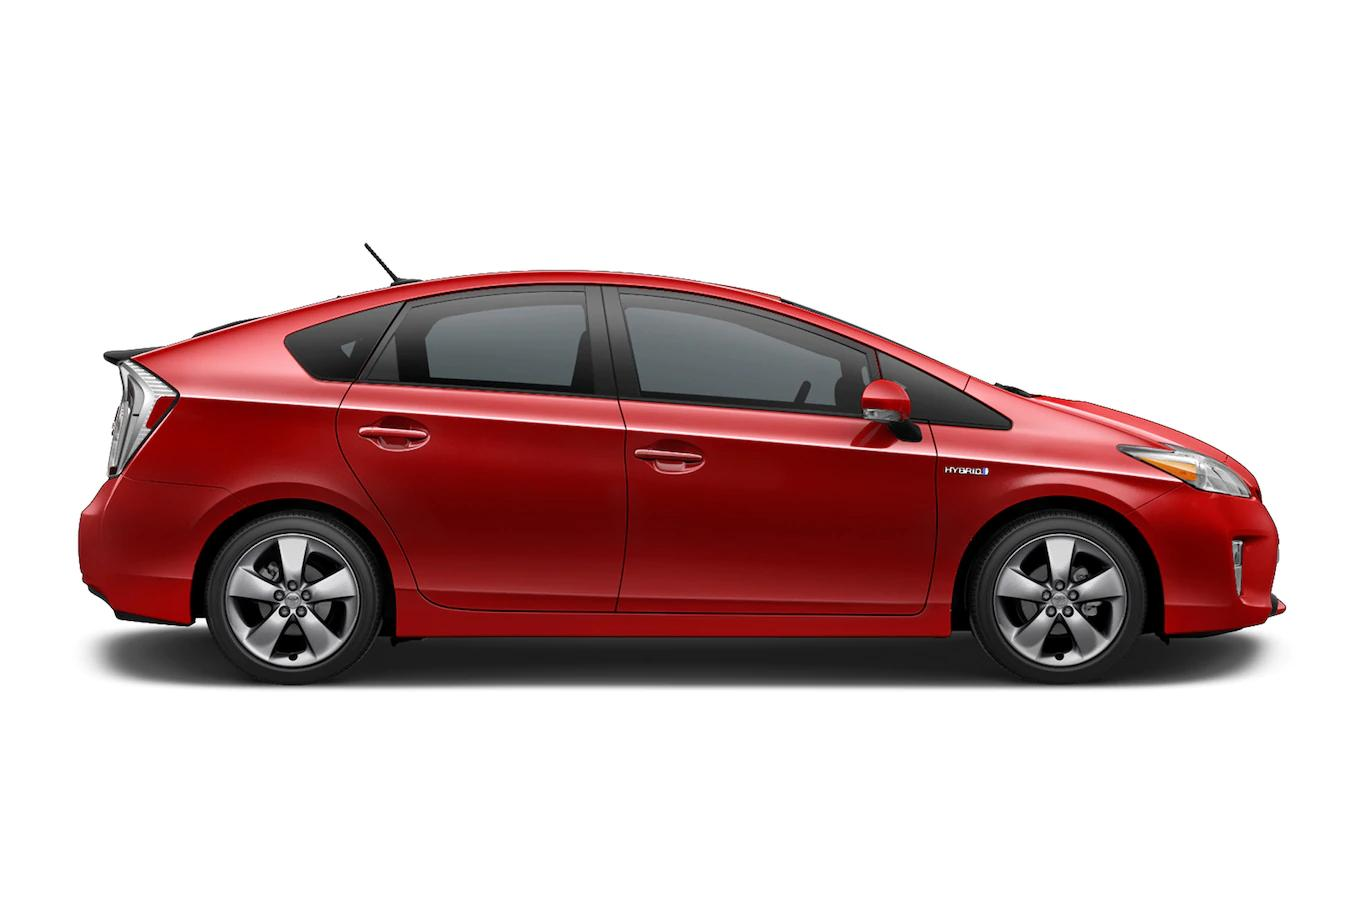Toyota Prius: (72, 265, 1290, 692)
